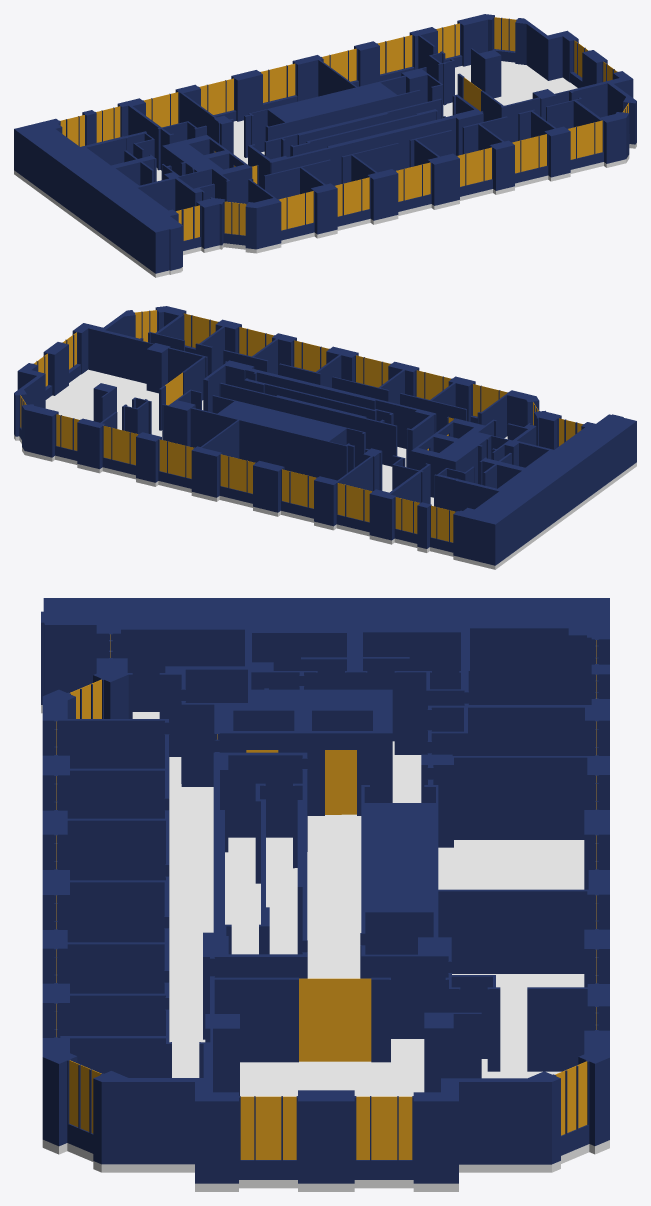
File: 26W 5th Floor.fbx
The picture shows the model from 3 angles, top to bottom: view 1: azimuth 30°, elevation 25°; view 2: azimuth 150°, elevation 25°; view 3: azimuth 270°, elevation 25°; orthographic projection. The views are drawn at different scales.
Visible parts, largest first — view 1: Walls, Interior Member, Object_93; view 2: Walls, Interior Member, Object_93; view 3: Walls, Object_93, Interior Member.
Part boxes in pixels (bbox=[...]): Walls: bbox=[14, 14, 636, 273]; Interior Member: bbox=[60, 17, 628, 240]; Object_93: bbox=[14, 61, 636, 277]; Walls: bbox=[14, 306, 636, 565]; Interior Member: bbox=[20, 310, 582, 542]; Object_93: bbox=[14, 369, 636, 569]; Walls: bbox=[41, 598, 609, 1183]; Object_93: bbox=[41, 705, 609, 1191]; Interior Member: bbox=[56, 634, 596, 1159].
Bounding box in the file's own units: 1570 × 750 × 132.
